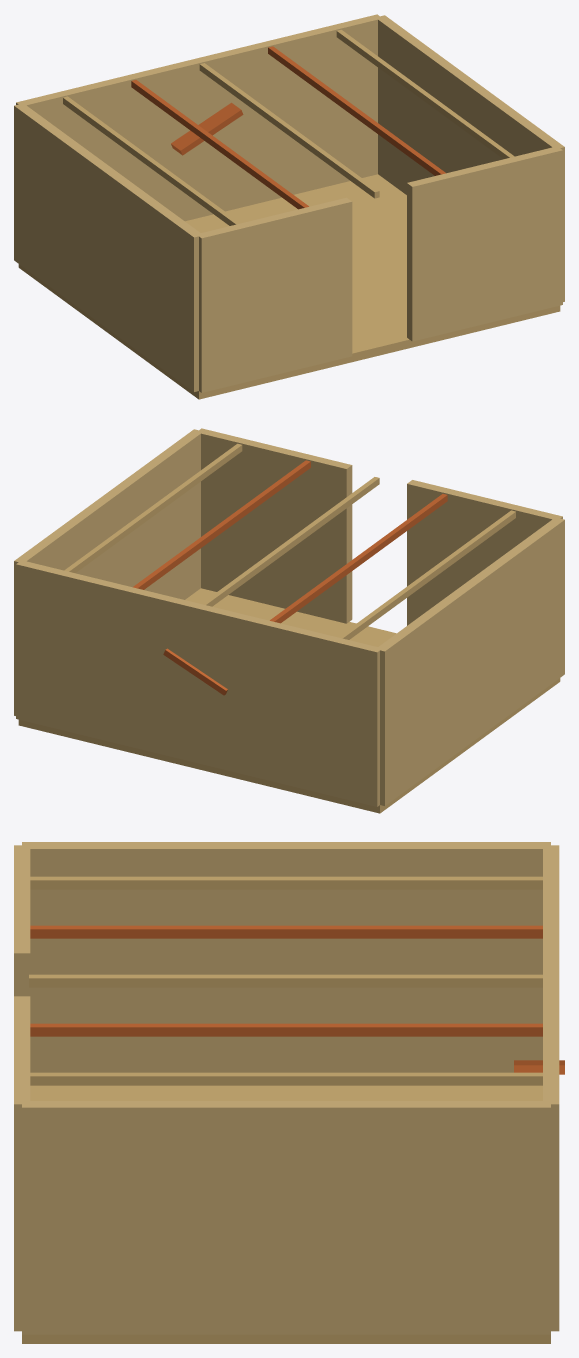
The model's file is sun_forge_temple.glb.
3 views of the same model, one above another, from view 1: azimuth 30°, elevation 25°; view 2: azimuth 150°, elevation 25°; view 3: azimuth 270°, elevation 25° (orthographic). The views are drawn at different scales.
Parts seen in each view (by area): view 1: wall_north, wall_west, wall_south_right, wall_south_left, wall_east, floor, ceiling_beam_0, ceiling_beam_2, ceiling_beam_-1, ceiling_beam_1, ceiling_beam_-2, purpose_canyon_forge; view 2: wall_north, wall_west, wall_south_right, wall_east, wall_south_left, floor, ceiling_beam_0, ceiling_beam_2, ceiling_beam_-1, ceiling_beam_1, ceiling_beam_-2, purpose_canyon_forge; view 3: wall_east, wall_west, floor, ceiling_beam_0, ceiling_beam_-2, ceiling_beam_-1, ceiling_beam_1, ceiling_beam_2, wall_north, wall_south_right, wall_south_left.
Boxes of the visible parts, bbox=[...] form: wall_north: bbox=[16, 14, 382, 221]; wall_west: bbox=[14, 104, 203, 391]; wall_south_right: bbox=[407, 146, 562, 341]; wall_south_left: bbox=[199, 197, 352, 392]; wall_east: bbox=[377, 15, 564, 301]; floor: bbox=[18, 174, 560, 399]; ceiling_beam_0: bbox=[199, 63, 379, 198]; ceiling_beam_2: bbox=[336, 29, 514, 159]; ceiling_beam_-1: bbox=[131, 80, 308, 209]; ceiling_beam_1: bbox=[268, 46, 445, 175]; ceiling_beam_-2: bbox=[63, 96, 240, 225]; purpose_canyon_forge: bbox=[171, 102, 243, 155]; wall_north: bbox=[16, 561, 382, 806]; wall_west: bbox=[376, 517, 564, 805]; wall_south_right: bbox=[197, 428, 352, 623]; wall_east: bbox=[14, 429, 203, 715]; wall_south_left: bbox=[407, 480, 562, 625]; floor: bbox=[18, 588, 560, 813]; ceiling_beam_0: bbox=[201, 477, 379, 606]; ceiling_beam_2: bbox=[64, 443, 242, 573]; ceiling_beam_-1: bbox=[270, 494, 447, 623]; ceiling_beam_1: bbox=[133, 460, 310, 589]; ceiling_beam_-2: bbox=[338, 510, 515, 639]; purpose_canyon_forge: bbox=[163, 648, 227, 695]; wall_east: bbox=[22, 1101, 550, 1334]; wall_west: bbox=[22, 842, 550, 1072]; floor: bbox=[22, 1085, 550, 1343]; ceiling_beam_0: bbox=[29, 974, 542, 987]; ceiling_beam_-2: bbox=[30, 876, 542, 889]; ceiling_beam_-1: bbox=[30, 925, 542, 938]; ceiling_beam_1: bbox=[30, 1023, 542, 1036]; ceiling_beam_2: bbox=[30, 1072, 542, 1085]; wall_north: bbox=[543, 845, 559, 1331]; wall_south_right: bbox=[14, 996, 30, 1331]; wall_south_left: bbox=[14, 845, 30, 996].
Size of what is drawn, in the model's own units: 13.55 by 5.7 by 11.88.
